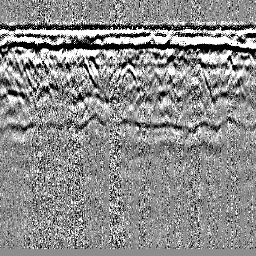cavity: (119, 59, 137, 87)
